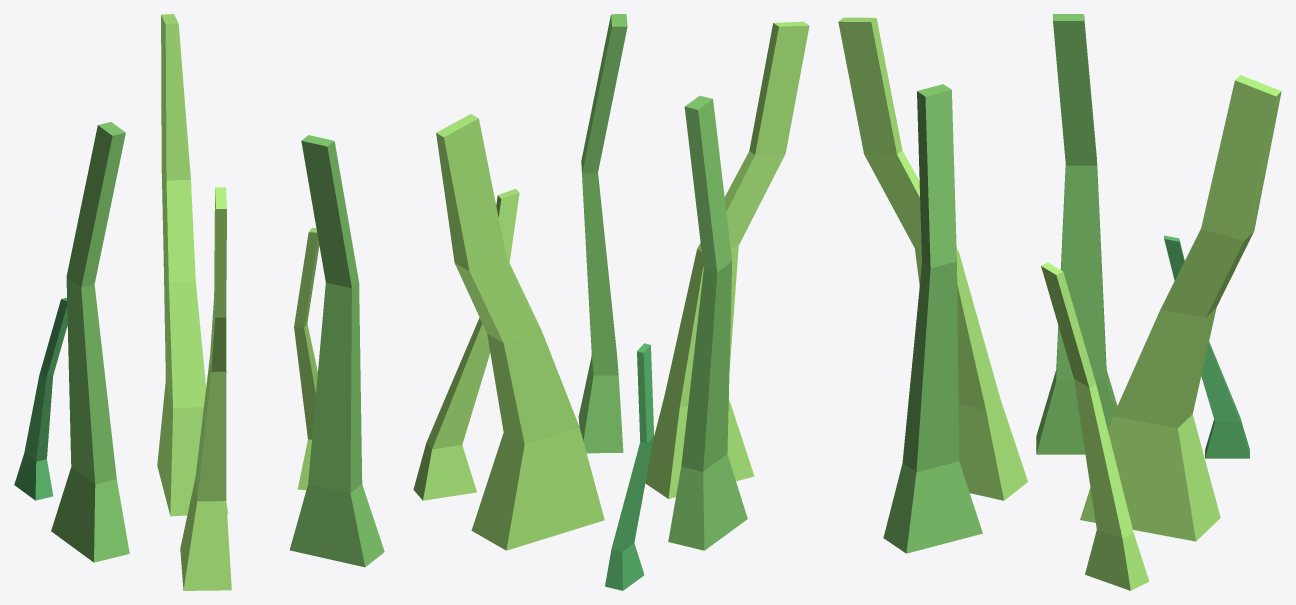
Rendered from Grass_4.fbx.
The picture shows the model from 3 angles, left to right: view 1: azimuth 30°, elevation 25°; view 2: azimuth 150°, elevation 25°; view 3: azimuth 270°, elevation 25°; orthographic projection. The views are drawn at different scales.
Parts seen in each view (by area): view 1: Grass_4; view 2: Grass_4; view 3: Grass_4.
Part boxes in pixels (x1,y1,x2,y2): Grass_4: (14,14,384,590); Grass_4: (413,14,809,590); Grass_4: (838,14,1281,590).
Size of the model in its own units: 55.29 by 80.22 by 70.69.
